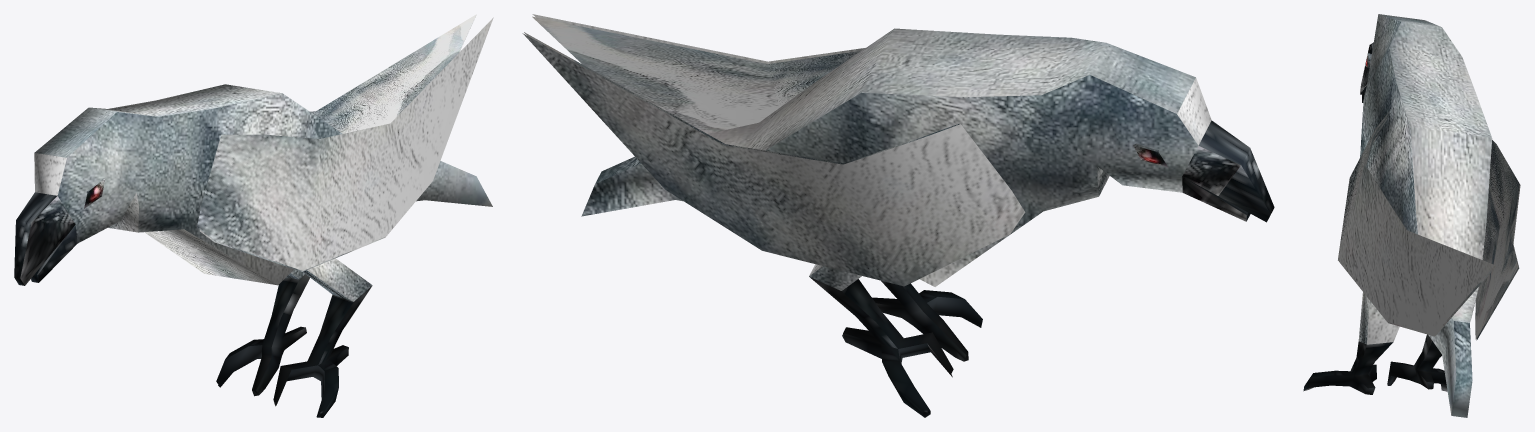
The model's file is STATIC_KRUKB.glb.
3 renders of one model, left to right at view 1: azimuth 30°, elevation 25°; view 2: azimuth 150°, elevation 25°; view 3: azimuth 270°, elevation 25°, orthographic. The views are drawn at different scales.
Visible parts, largest first — view 1: Mesh; view 2: Mesh; view 3: Mesh.
Part boxes in pixels (x1,y1,x2,y2): Mesh: (14,14,493,417); Mesh: (522,14,1274,417); Mesh: (1303,14,1520,417).
Size of the model in its own units: 0.4447 by 0.2515 by 0.159.
1 material, 1 textured.
